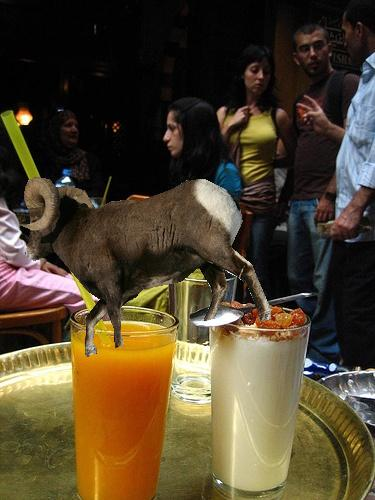tampered: (23, 178, 271, 357)
